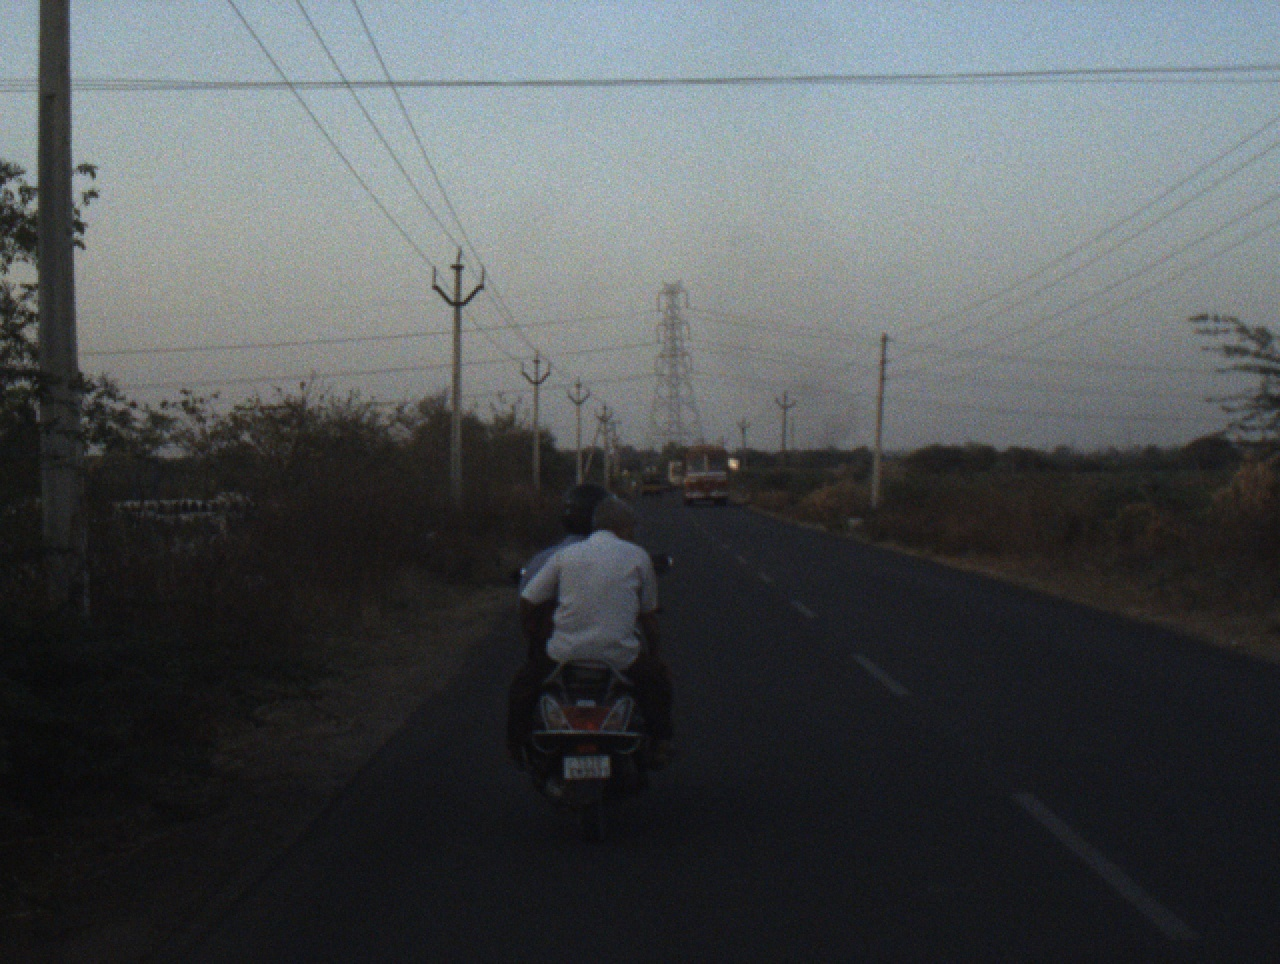autorickshaw: (637, 462, 666, 498)
motorcycle: (509, 553, 693, 849)
rider: (491, 493, 681, 787), (514, 480, 610, 602)
truck: (677, 437, 733, 509), (667, 455, 685, 494)
